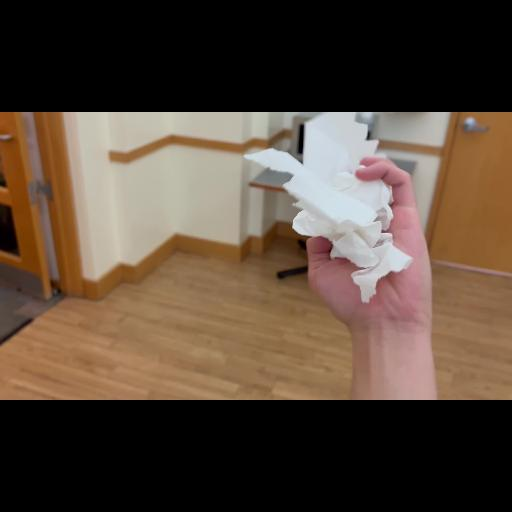napkin: (241, 148, 411, 298)
